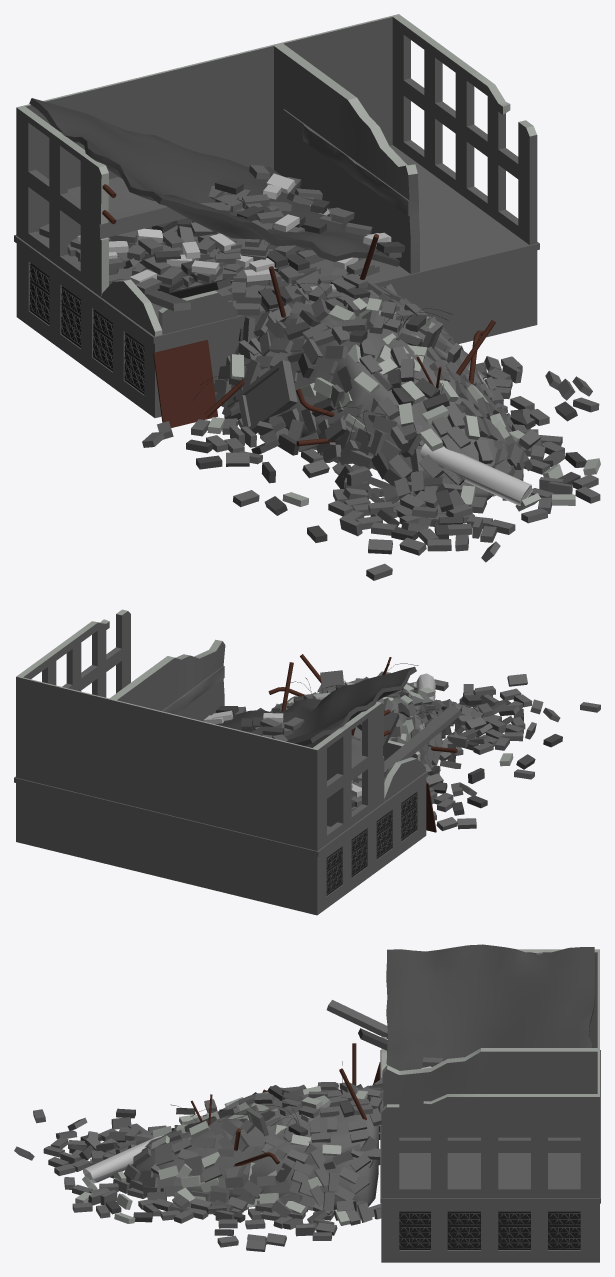
The model's file is destructions2.1 1.fbx.
The picture shows the model from 3 angles, top to bottom: view 1: azimuth 30°, elevation 25°; view 2: azimuth 150°, elevation 25°; view 3: azimuth 270°, elevation 25°; orthographic projection. The views are drawn at different scales.
Visible parts, largest first — view 1: Destucructions; view 2: Destucructions; view 3: Destucructions.
Part boxes in pixels (x1,y1,x2,y2): Destucructions: [14, 14, 600, 580]; Destucructions: [14, 609, 600, 915]; Destucructions: [14, 944, 600, 1262].
Bounding box in the file's own units: 886 × 457 × 1350.
Materials: 2 (2 with a texture image).
